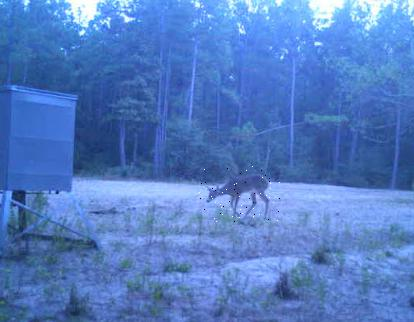Deer: (199, 166, 280, 223)
